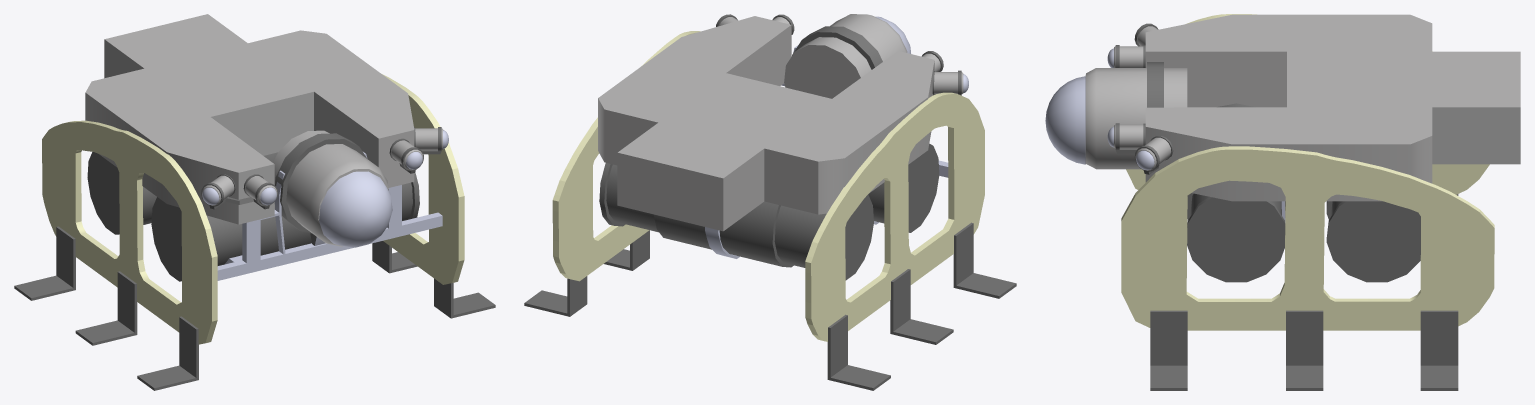
The model's file is SILVER2_Body.fbx.
The picture shows the model from 3 angles, left to right: view 1: azimuth 30°, elevation 25°; view 2: azimuth 150°, elevation 25°; view 3: azimuth 270°, elevation 25°; orthographic projection. The views are drawn at different scales.
Parts seen in each view (by area): view 1: Foam, RightChasis, Camera, LeftChasis, FrontCylinder, FrontCylinderSupport, SensorLeft, BackCylinder, CoxaBase4, CoxaBase5, CoxaBase3, CoxaBase0 (+1 smaller); view 2: Foam, RightChasis, BackCylinder, Camera, LeftChasis, FrontCylinder, CoxaBase5, CoxaBase3, CoxaBase4, CoxaBase2, SensorLeft, CoxaBase1; view 3: Foam, LeftChasis, Camera, FrontCylinder, BackCylinder, CoxaBase2, SensorLeft, CoxaBase0, CoxaBase1, RightChasis.
Boxes of the visible parts, <box> form: Foam: <box>85,14,414,224</box>; RightChasis: <box>42,120,217,344</box>; Camera: <box>273,130,392,247</box>; LeftChasis: <box>382,74,464,284</box>; FrontCylinder: <box>151,172,419,281</box>; FrontCylinderSupport: <box>217,152,442,280</box>; SensorLeft: <box>201,127,448,209</box>; BackCylinder: <box>87,152,277,234</box>; CoxaBase4: <box>75,271,137,345</box>; CoxaBase5: <box>14,226,75,300</box>; CoxaBase3: <box>137,316,198,390</box>; CoxaBase0: <box>434,278,495,318</box>; Foam: <box>598,16,934,231</box>; RightChasis: <box>805,92,984,341</box>; BackCylinder: <box>599,163,873,280</box>; Camera: <box>784,14,910,98</box>; LeftChasis: <box>552,31,700,281</box>; FrontCylinder: <box>868,143,939,232</box>; CoxaBase5: <box>827,314,890,390</box>; CoxaBase3: <box>953,222,1016,298</box>; CoxaBase4: <box>890,269,953,344</box>; CoxaBase2: <box>524,276,587,316</box>; SensorLeft: <box>716,14,968,95</box>; CoxaBase1: <box>604,230,649,270</box>; Foam: <box>1145,14,1520,201</box>; LeftChasis: <box>1121,146,1494,330</box>; Camera: <box>1045,62,1187,169</box>; FrontCylinder: <box>1187,103,1285,282</box>; BackCylinder: <box>1326,201,1420,282</box>; CoxaBase2: <box>1420,310,1458,390</box>; SensorLeft: <box>1107,23,1173,174</box>; CoxaBase0: <box>1150,310,1187,390</box>; CoxaBase1: <box>1286,310,1323,390</box>; RightChasis: <box>1126,14,1489,194</box>.
Bounding box in the file's own units: 3.6 × 2.12 × 3.94.
1 material, 1 textured.
